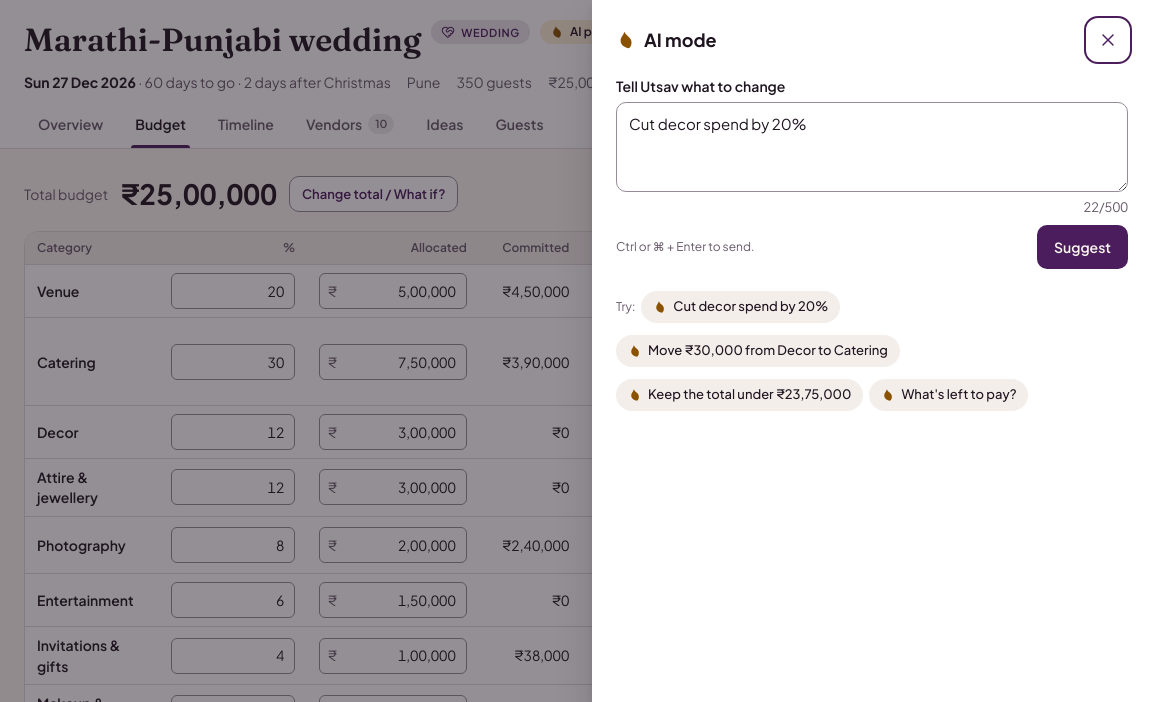
it: AI mode panel and suggestion cards (spec 6.1, 6.3) › labels a follow-up that replaces an earlier change and keeps its title once applied
Click the button "Suggest" at (1082, 247), box [1037,225,1128,269]
(page scrolled)
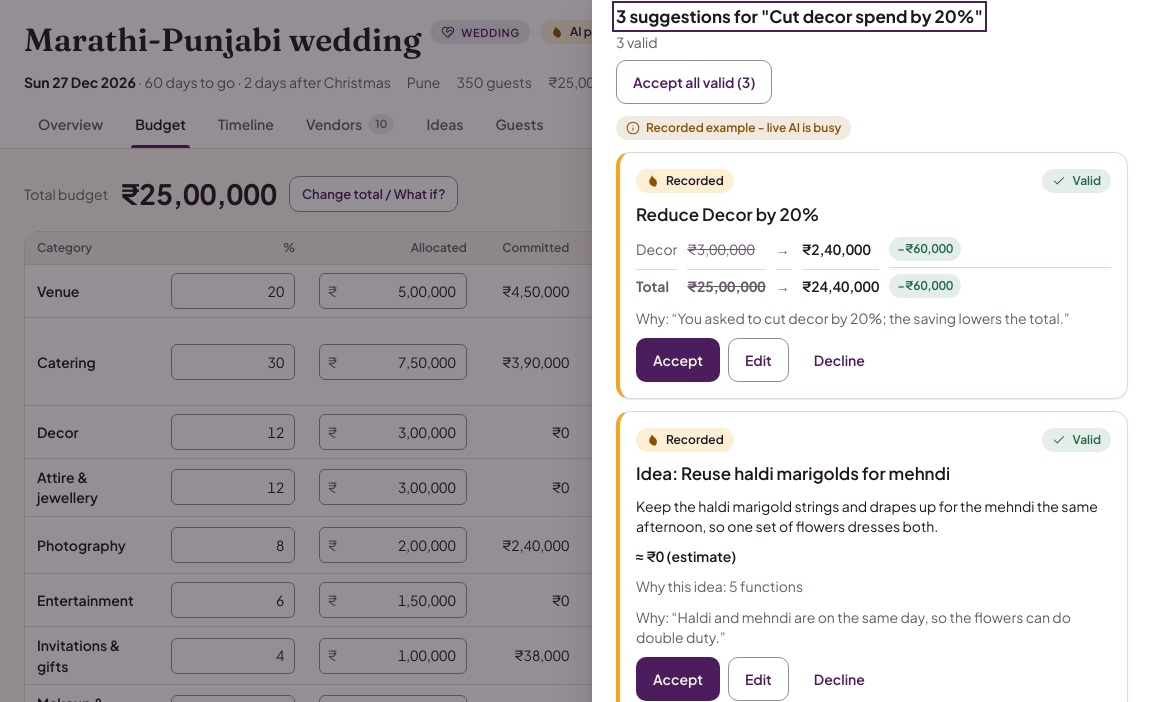
Click the button with aria-label "Accept: Reduce Decor by 20%" at (678, 360), box [636,338,720,382]
(page scrolled)
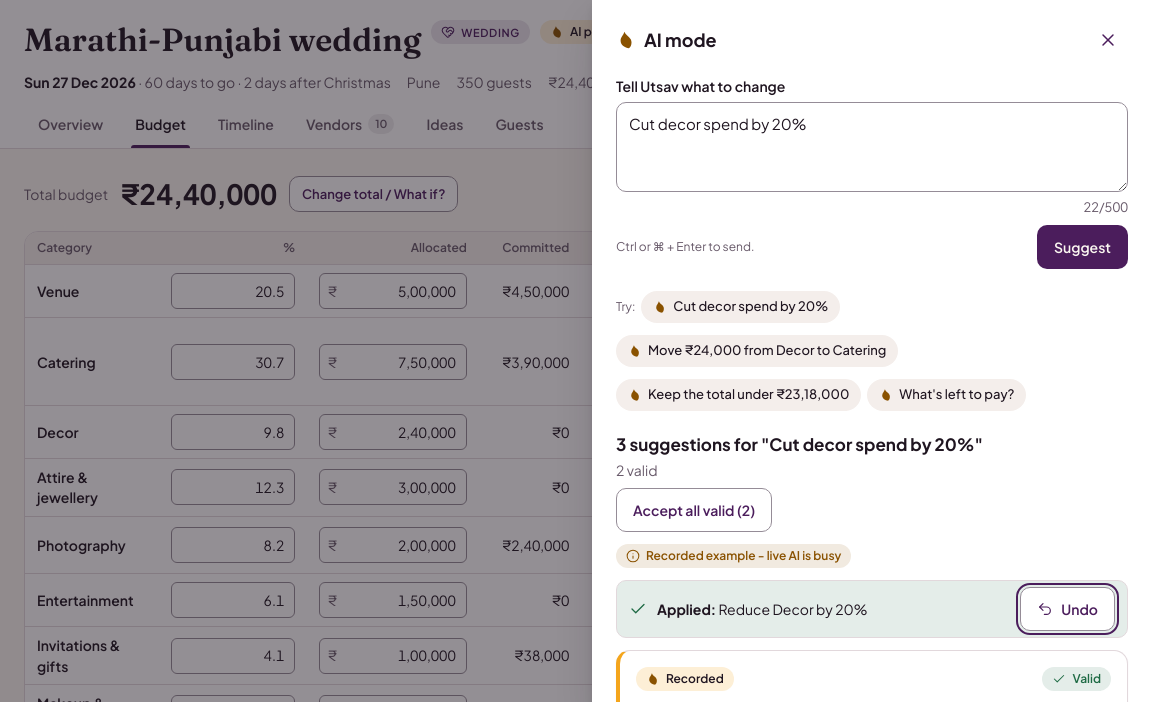
Replace the text in the text box labelled "Tell Utsav what to change" with "make that 15% instead" at (872, 147), box [616,102,1128,192]
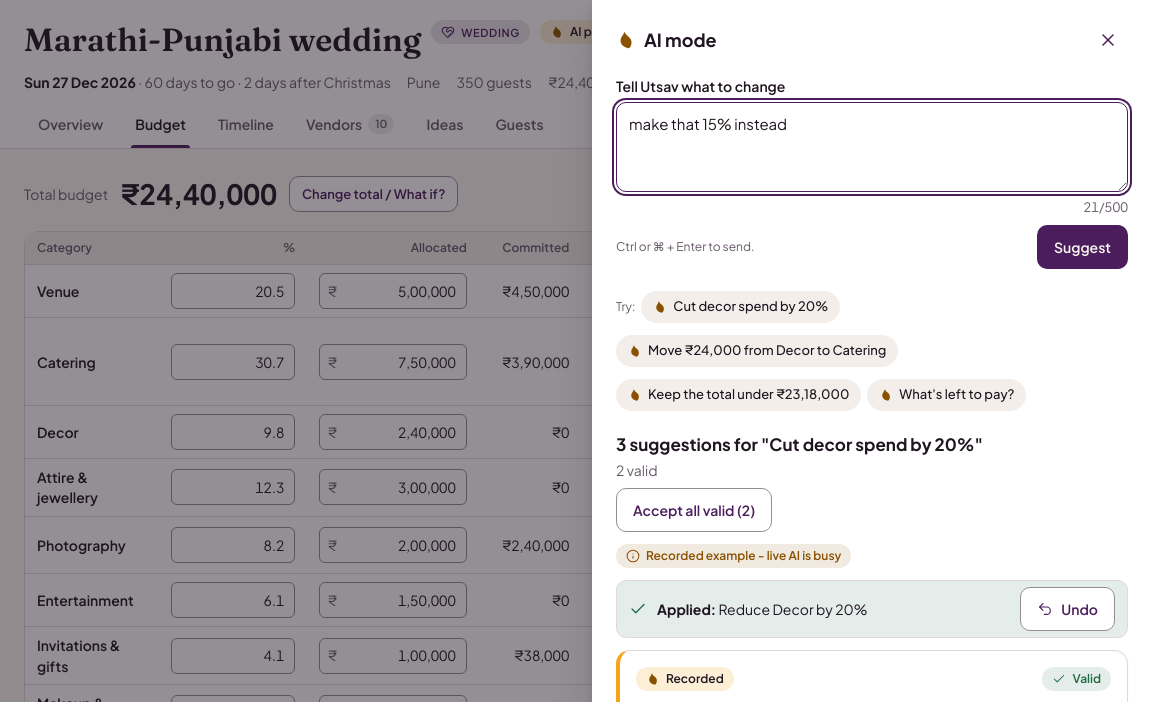
Click the button "Suggest" at (1082, 247), box [1037,225,1128,269]
(page scrolled)
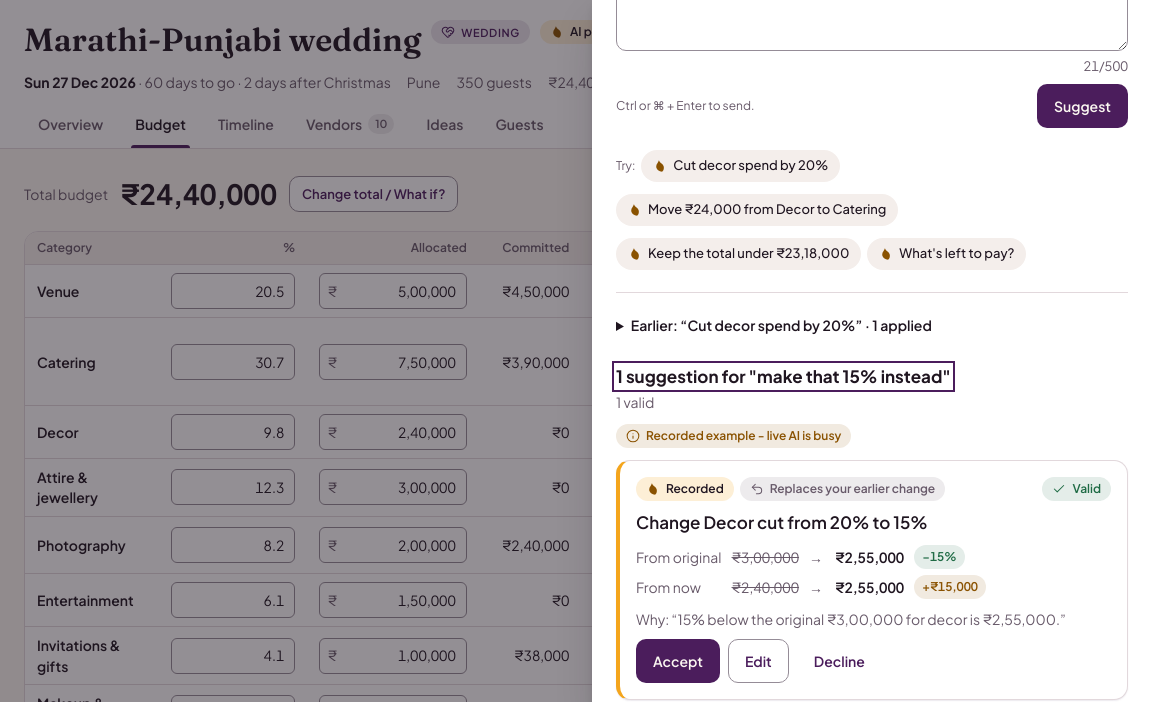
Expected: the text "Replaces your earlier change" is shown, [740,477,945,501]
Expected: the heading "Earlier: “Cut decor spend by 20%” · 1 applied" is shown, [631,316,932,334]
Click the button with aria-label "Accept: Change Decor cut from 20% to 15%" at (678, 661), box [636,639,720,683]
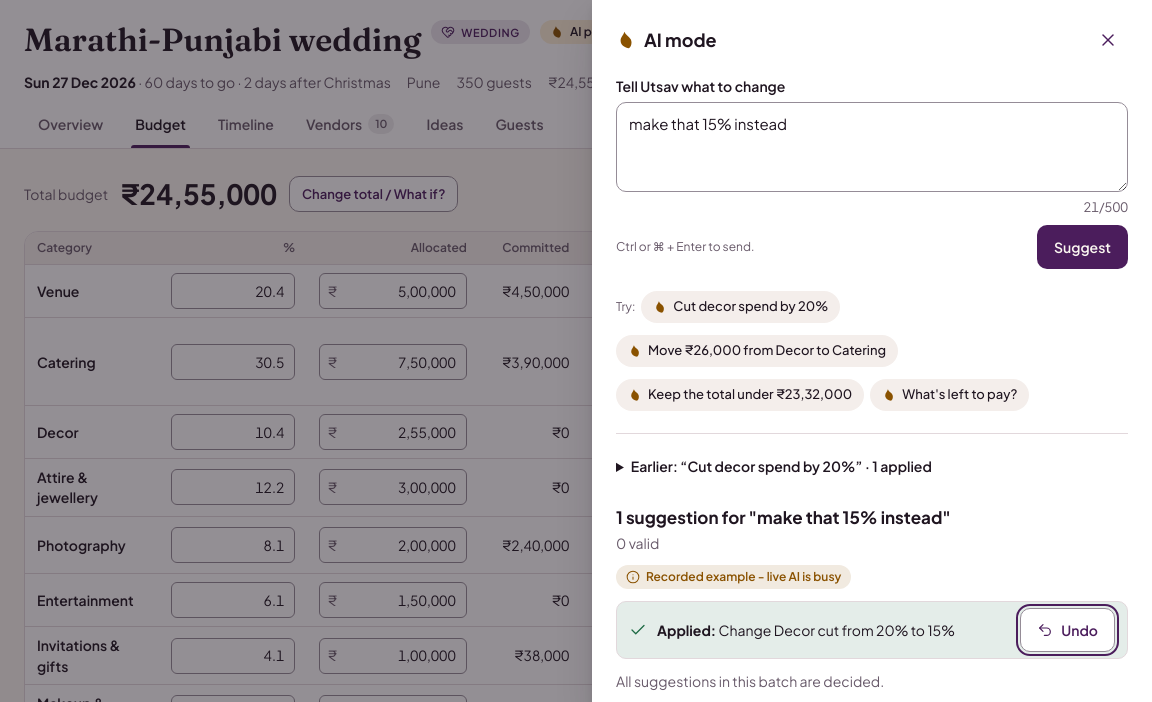
Expected: the button with aria-label "Undo: Change Decor cut from 20% to 15%" is shown, [1020,608,1115,652]
